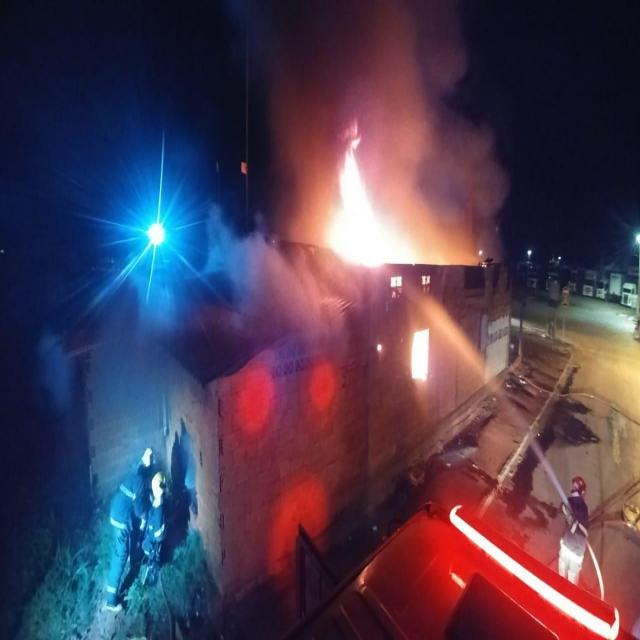fire: (320, 115, 479, 270)
